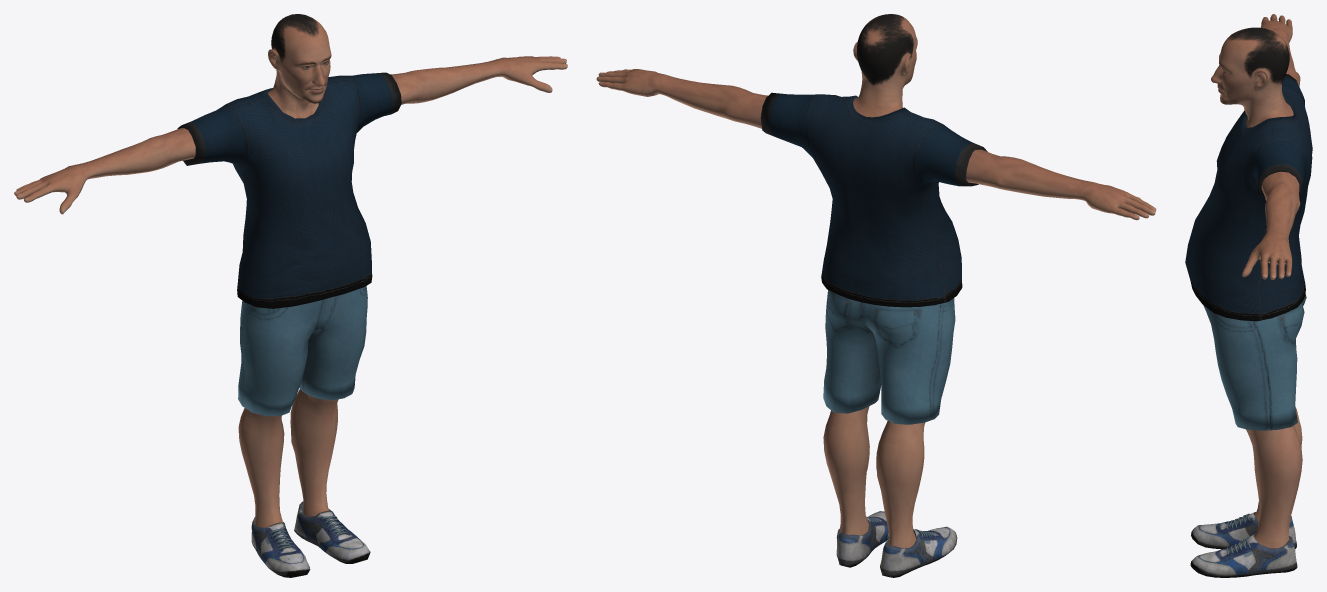
The model's file is A_M_Casual 2.obj.
3 renders of one model, left to right at view 1: azimuth 30°, elevation 25°; view 2: azimuth 150°, elevation 25°; view 3: azimuth 270°, elevation 25°, orthographic. The views are drawn at different scales.
Parts seen in each view (by area): view 1: Tops, Body, Bottoms, Shoes; view 2: Tops, Body, Bottoms, Shoes; view 3: Tops, Body, Bottoms, Shoes.
Boxes of the visible parts, x1,y1,x2,y2 form: Tops: [177, 72, 401, 308]; Body: [14, 14, 567, 527]; Bottoms: [238, 286, 367, 415]; Shoes: [251, 501, 370, 577]; Tops: [760, 92, 987, 307]; Body: [596, 14, 1156, 548]; Bottoms: [823, 290, 955, 424]; Shoes: [836, 511, 957, 577]; Tops: [1185, 74, 1312, 321]; Body: [1211, 14, 1302, 548]; Bottoms: [1203, 295, 1306, 430]; Shoes: [1190, 512, 1297, 577].
Size of the model in its own units: 193 by 179 by 39.19.
1 material, 1 textured.
